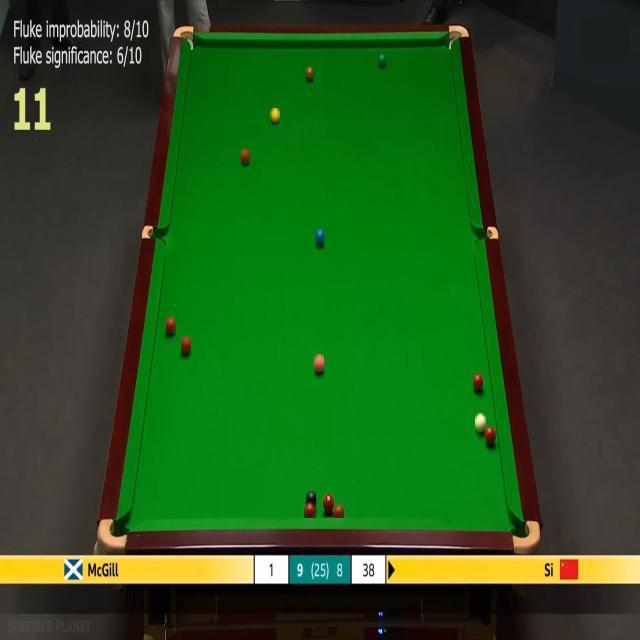Ball: (484, 426, 496, 446), (475, 413, 486, 432), (323, 494, 334, 512), (304, 502, 316, 518), (473, 373, 483, 392), (166, 317, 176, 335), (314, 354, 324, 372), (181, 336, 191, 354), (306, 491, 316, 508), (315, 230, 325, 246), (270, 108, 280, 123), (334, 505, 344, 518), (242, 150, 250, 164), (306, 68, 314, 82), (378, 54, 386, 67)
